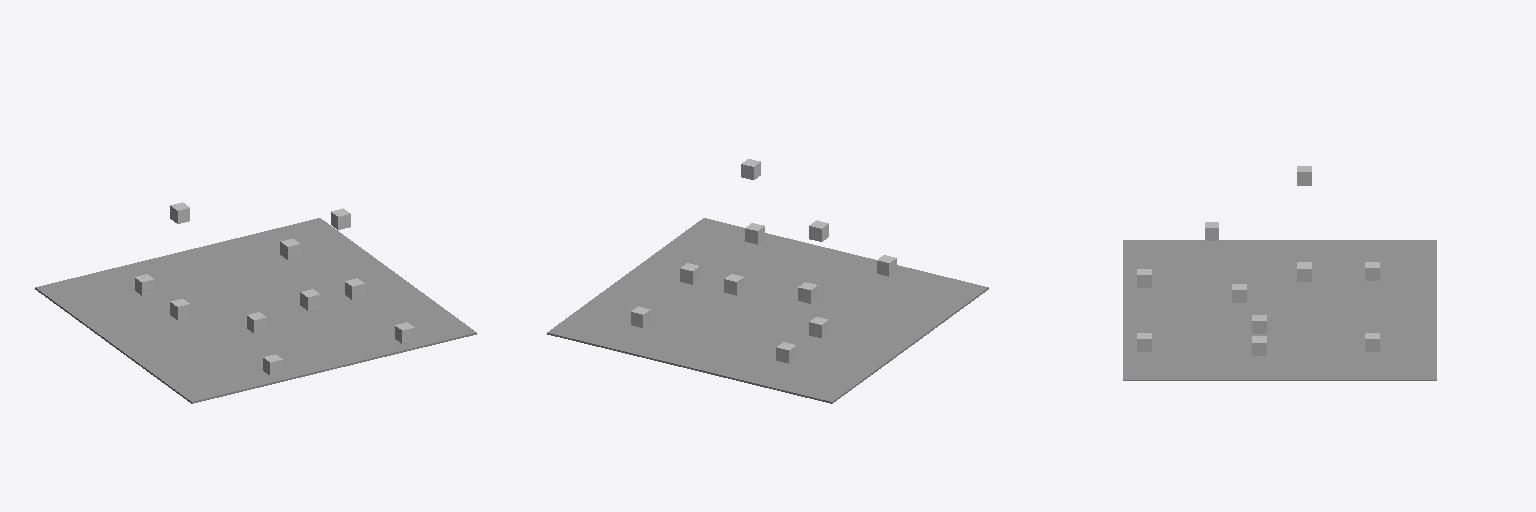
Rendered from plancher.obj.
3 renders of one model, left to right at view 1: azimuth 30°, elevation 25°; view 2: azimuth 150°, elevation 25°; view 3: azimuth 270°, elevation 25°, orthographic.
Parts seen in each view (by area): view 1: Cube; view 2: Cube; view 3: Cube.
Part boxes in pixels (bbox=[...]): Cube: bbox=[35, 218, 476, 403]; Cube: bbox=[547, 218, 988, 403]; Cube: bbox=[1123, 240, 1436, 380].
Bounding box in the file's own units: 2.27 × 0.8514 × 2.17.